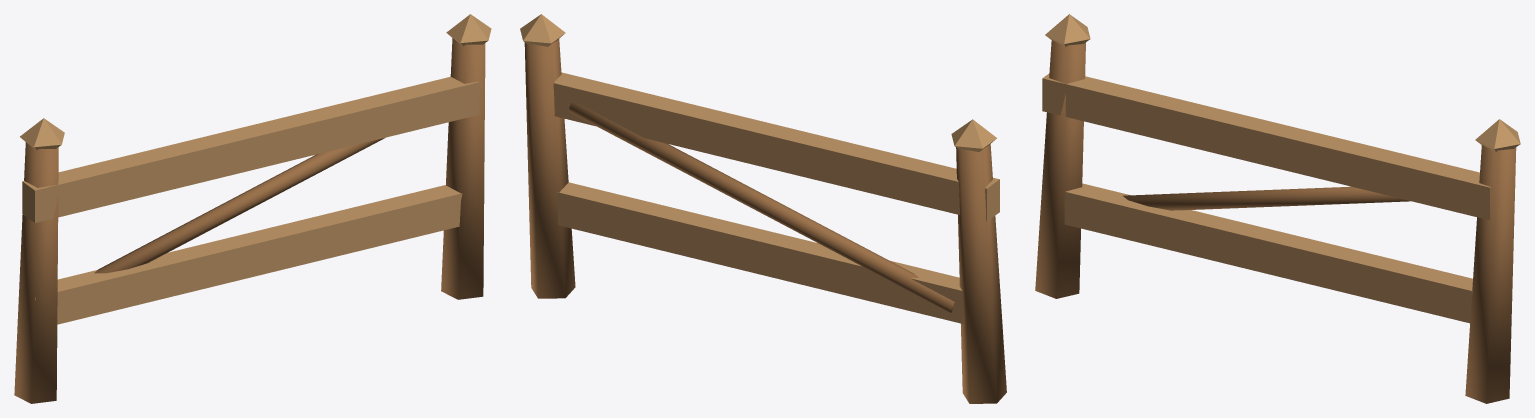
Rendered from farm_fence.glb.
3 renders of one model, left to right at view 1: azimuth 30°, elevation 25°; view 2: azimuth 150°, elevation 25°; view 3: azimuth 330°, elevation 25°, orthographic.
Visible parts, largest first — view 1: farm_fence; view 2: farm_fence; view 3: farm_fence.
Boxes of the visible parts, box(x1,y1,x2,y2) form: farm_fence: box(14, 14, 491, 403); farm_fence: box(520, 14, 1006, 403); farm_fence: box(1035, 14, 1520, 403).
Size of the model in its own units: 2.13 by 1.18 by 0.1908.
